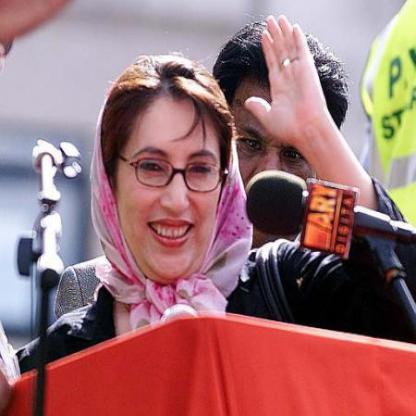face: (113, 66, 228, 282), (217, 40, 332, 251)
